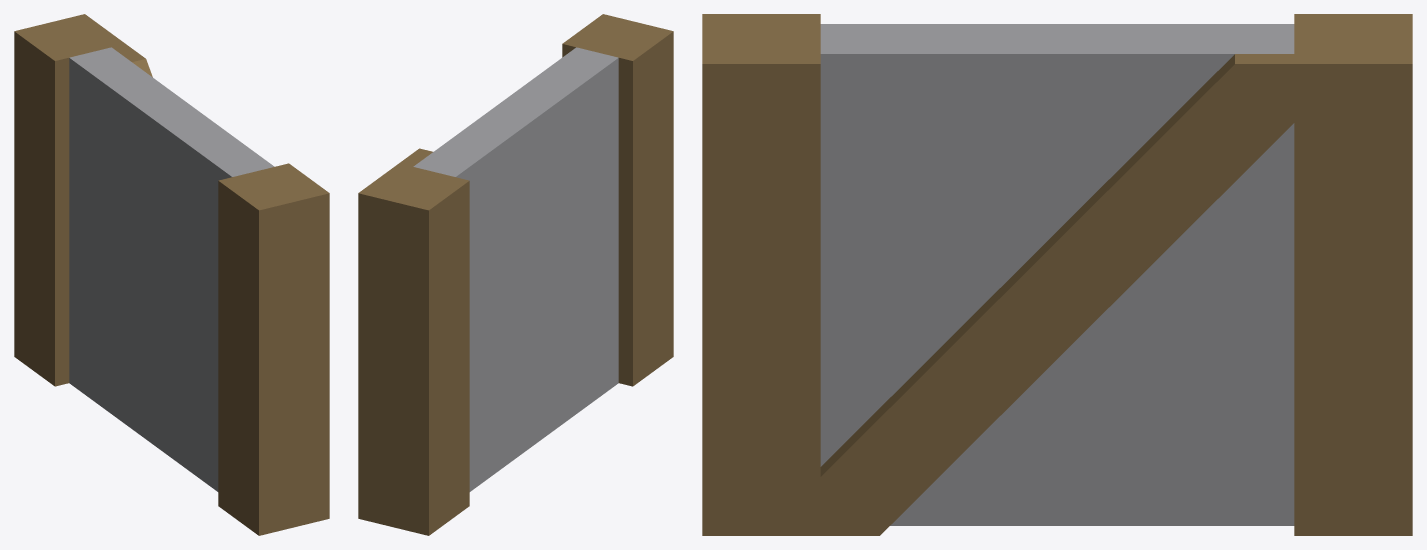
Rendered from Wood_Wall_Cross_01.obj.
3 views of the same model, side by side, from view 1: azimuth 30°, elevation 25°; view 2: azimuth 150°, elevation 25°; view 3: azimuth 270°, elevation 25° (orthographic). The views are drawn at different scales.
Visible parts, largest first — view 1: Mesh1_Wood_Wall_Cross_Model; view 2: Mesh1_Wood_Wall_Cross_Model; view 3: Mesh1_Wood_Wall_Cross_Model.
Boxes of the visible parts, left/top/right/bottom form: Mesh1_Wood_Wall_Cross_Model: left=14, top=14, right=329, bottom=535; Mesh1_Wood_Wall_Cross_Model: left=358, top=14, right=673, bottom=535; Mesh1_Wood_Wall_Cross_Model: left=702, top=14, right=1412, bottom=535.
Size of the model in its own units: 0.5 by 2.2 by 3.
